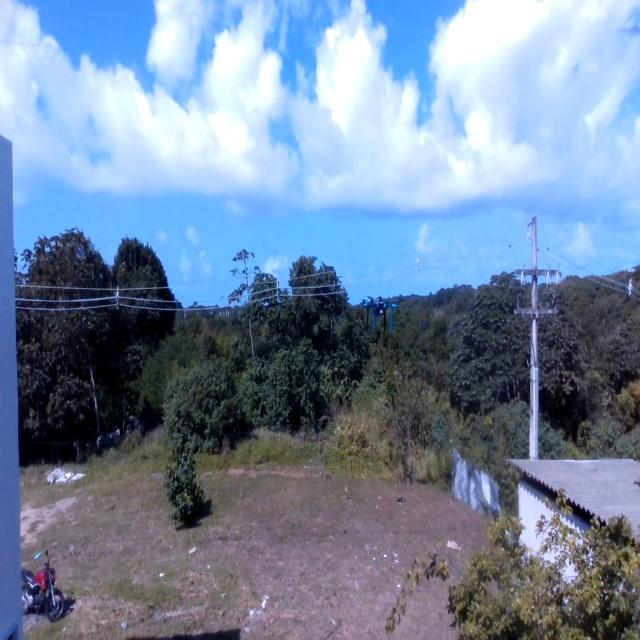-uav-: (356, 286, 399, 335)
